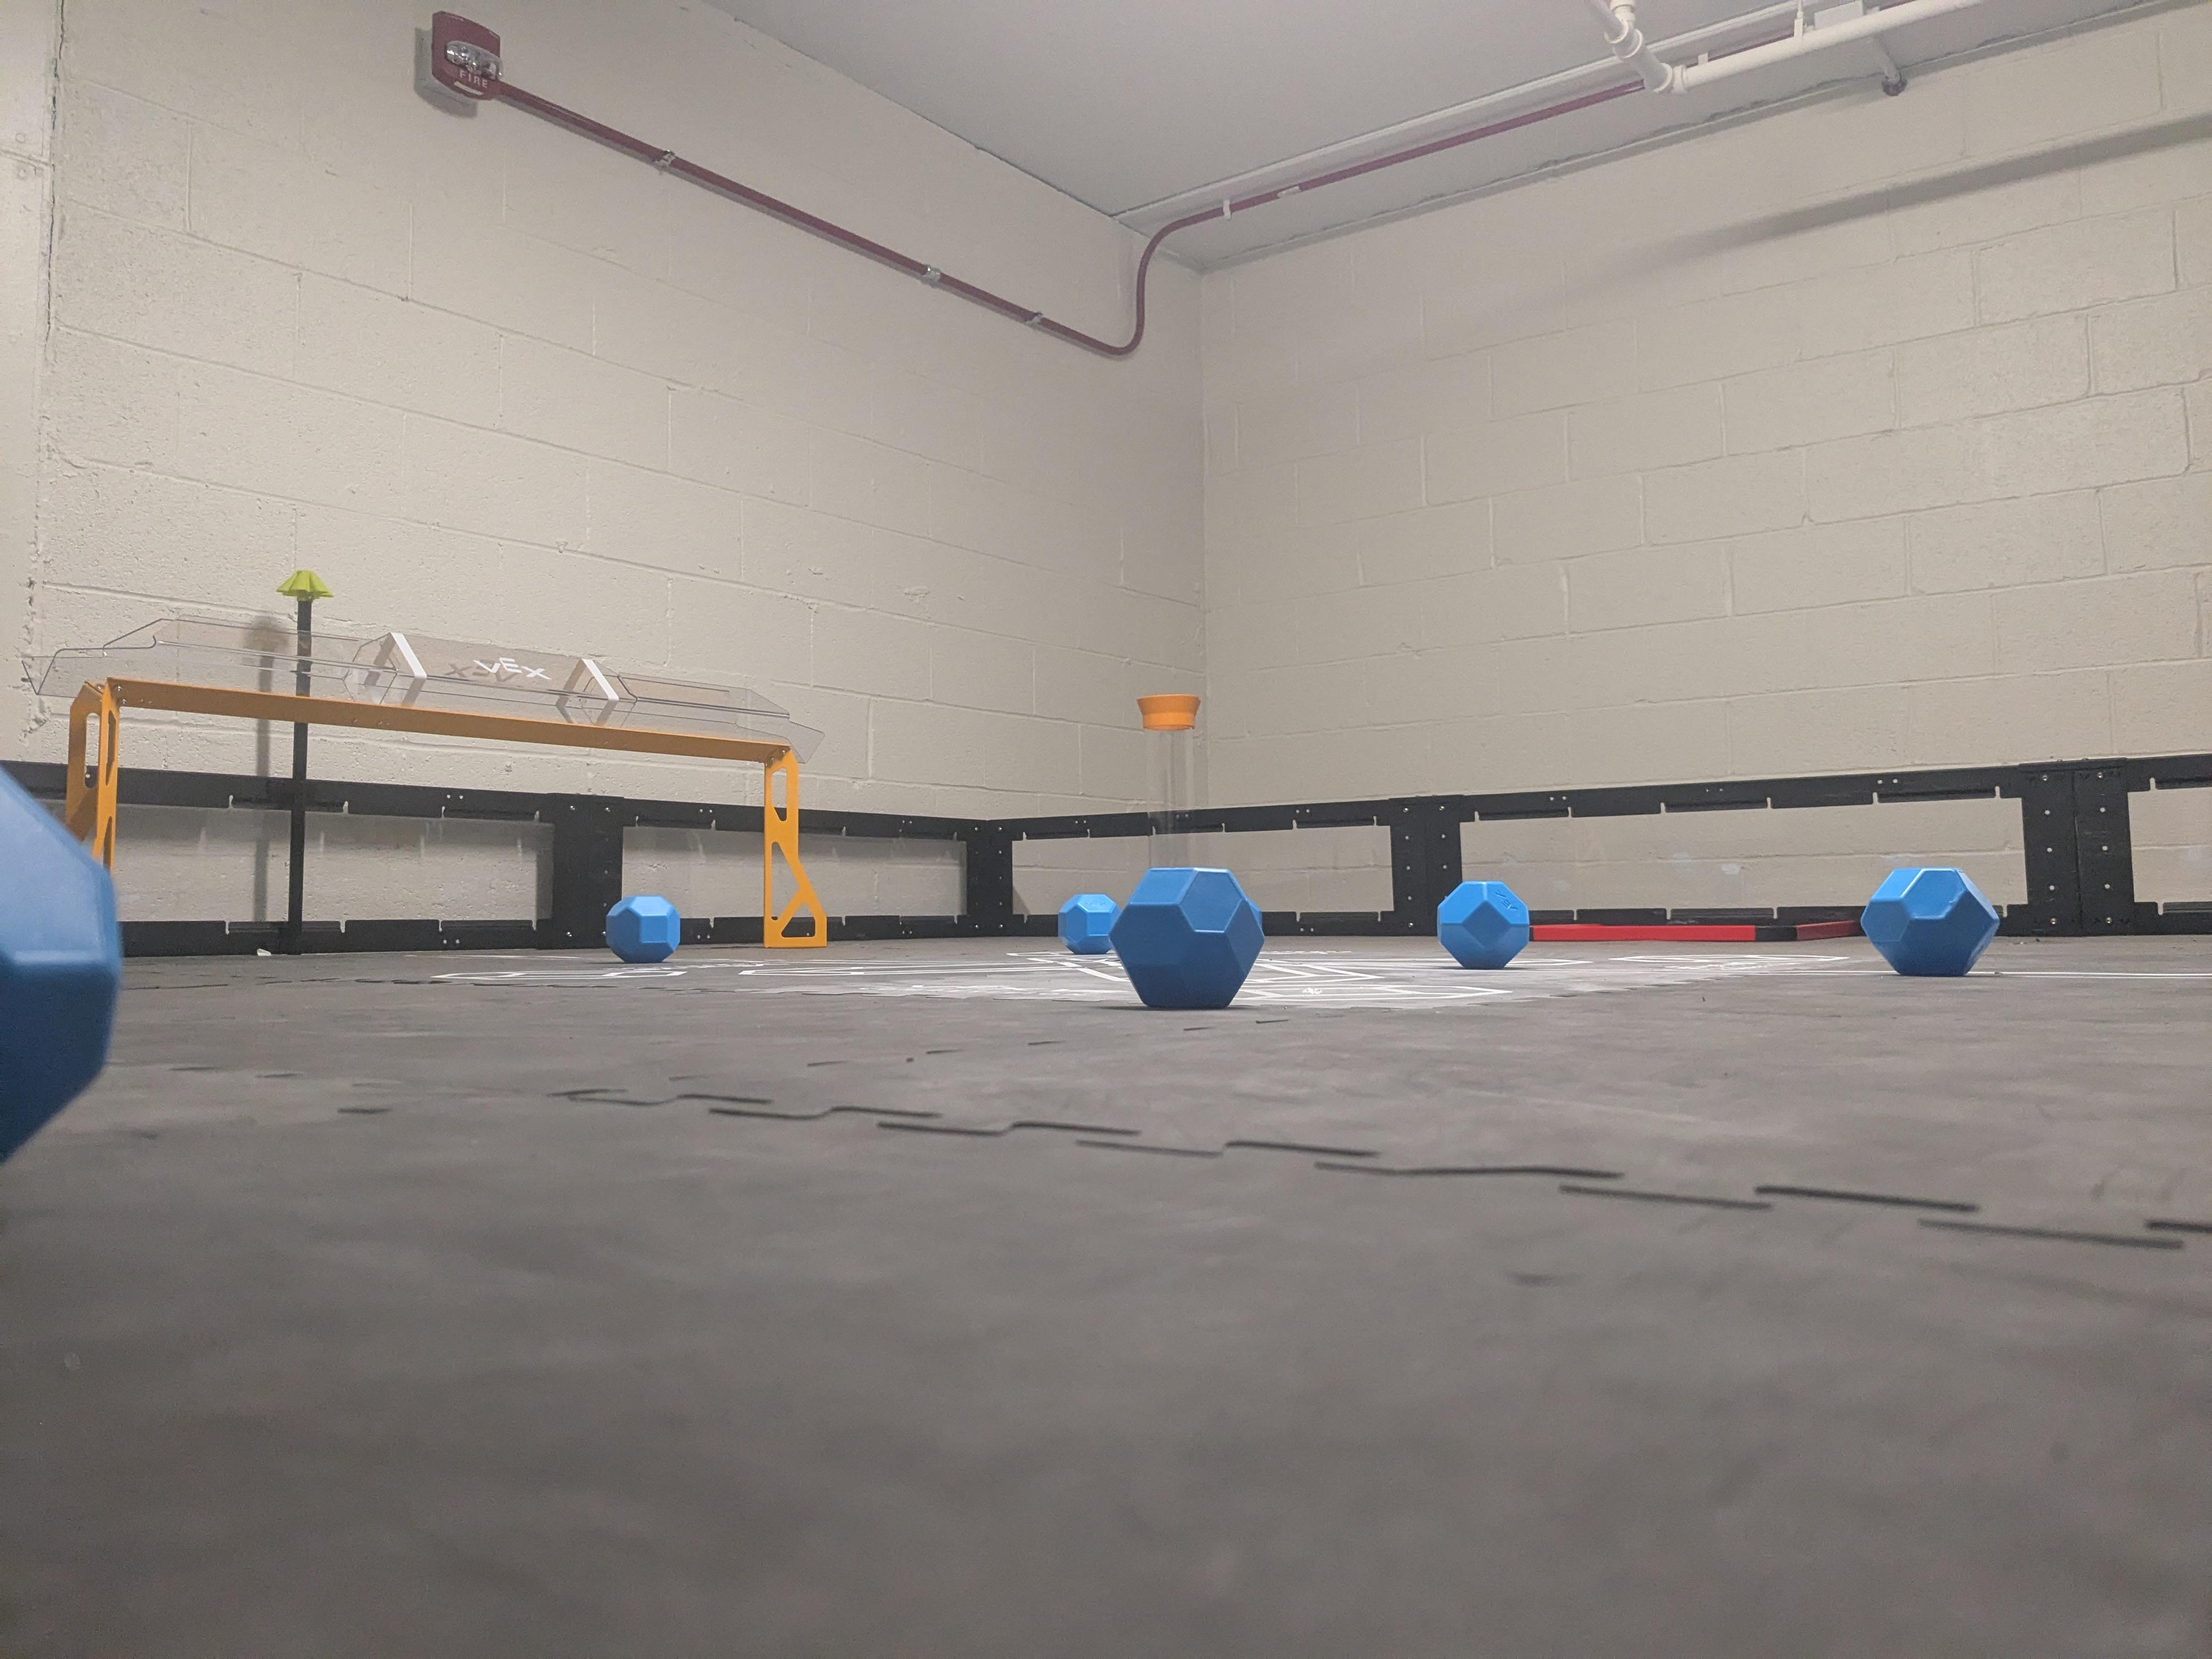Vex-Pieces-BLUE: (3, 770, 120, 1161), (1057, 868, 1261, 1006), (1862, 866, 2000, 972), (1437, 880, 1529, 969), (608, 896, 685, 962)
